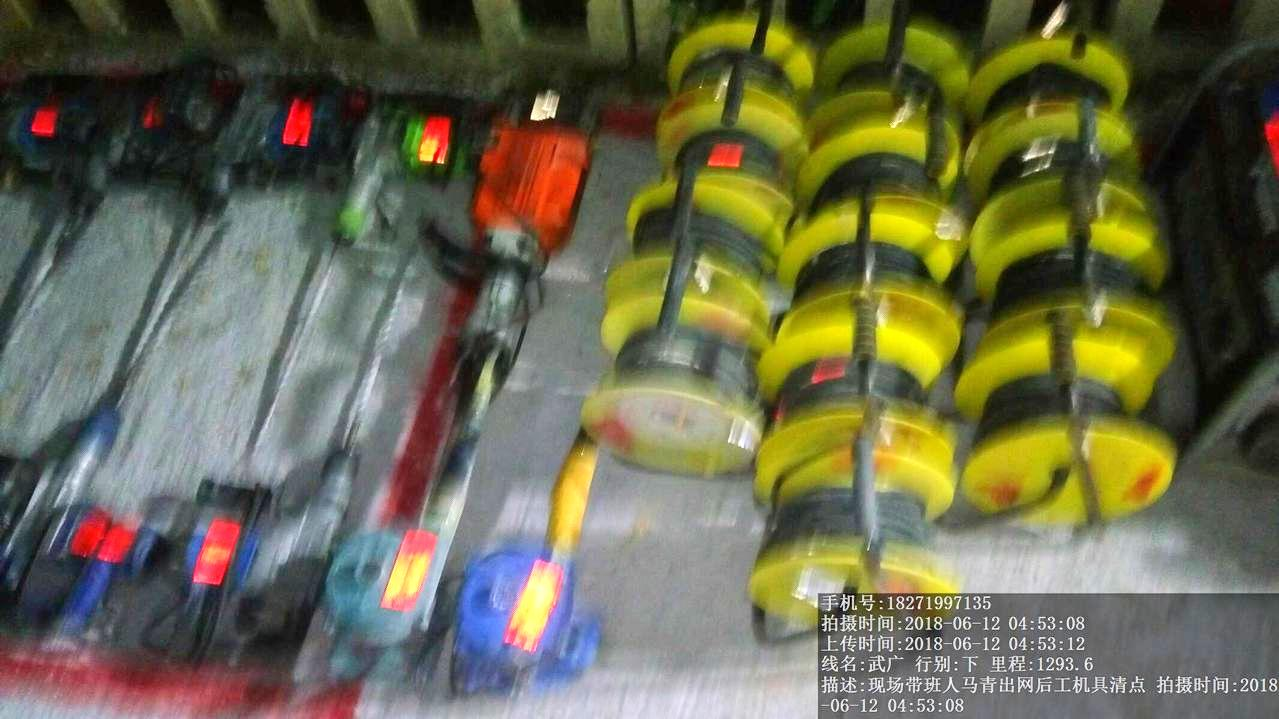DX: (591, 286, 766, 470)
DZ: (344, 86, 452, 261)
GFJ: (442, 426, 628, 699), (337, 445, 494, 646)
